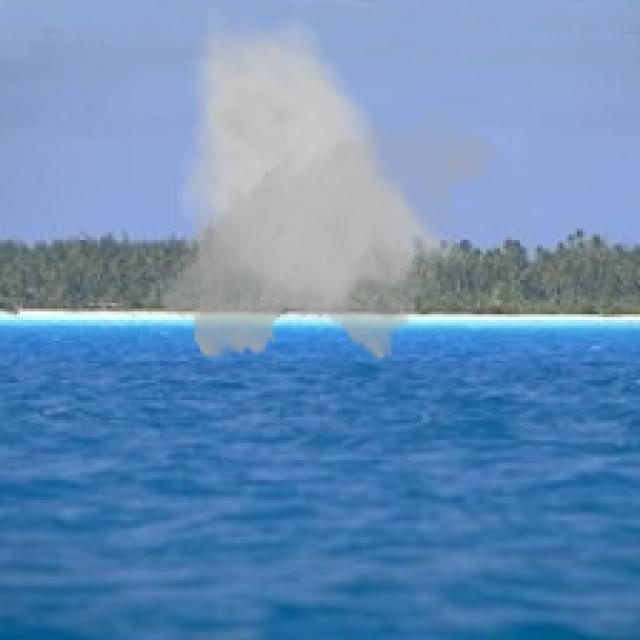smoke: (148, 6, 503, 368)
